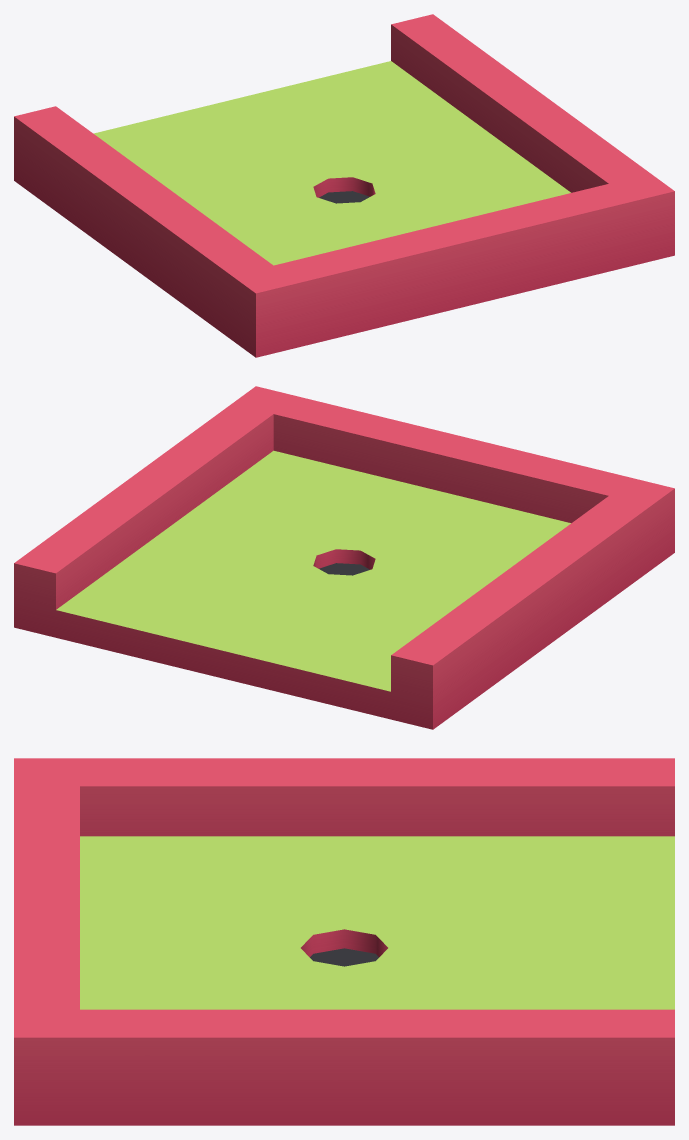
File: hole-square.gltf
3 views of the same model, one above another, from view 1: azimuth 30°, elevation 25°; view 2: azimuth 150°, elevation 25°; view 3: azimuth 270°, elevation 25° (orthographic). The views are drawn at different scales.
Parts seen in each view (by area): view 1: hole-square; view 2: hole-square; view 3: hole-square.
Part boxes in pixels (x1,y1,x2,y2): hole-square: (14,14,674,357); hole-square: (14,386,674,729); hole-square: (14,758,674,1125).
Size of the model in its own units: 0.9999 by 0.1467 by 0.9999.
Materials: 1 (1 with a texture image).
